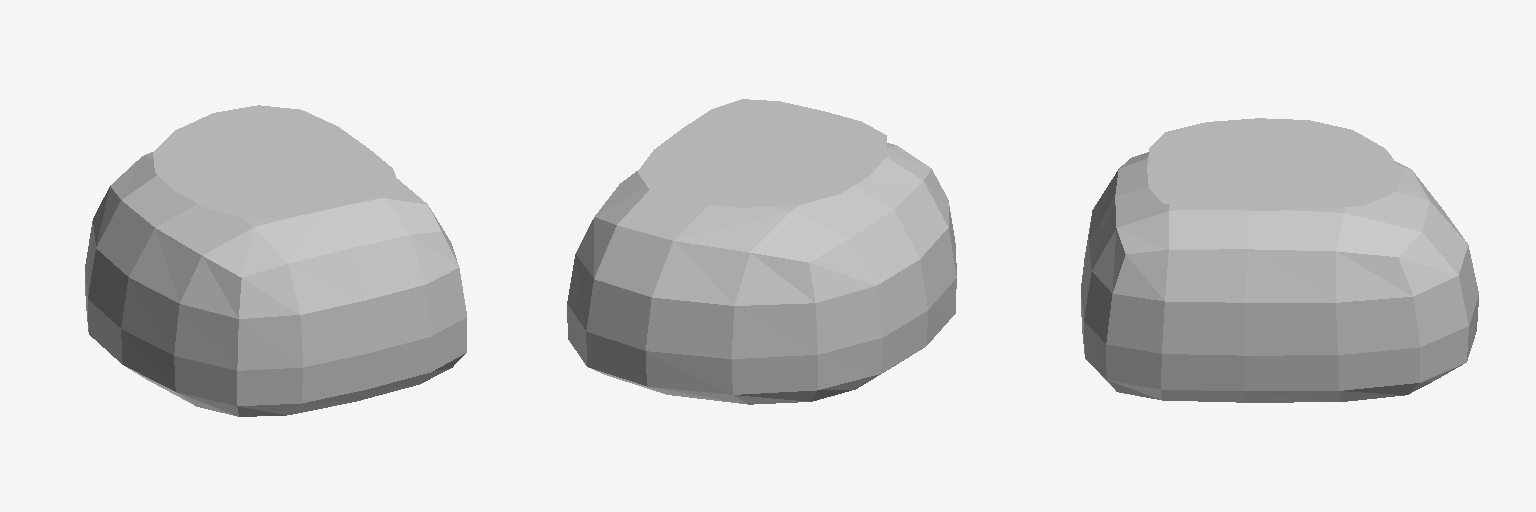
The model's file is snow_rock_2.obj.
3 renders of one model, left to right at view 1: azimuth 30°, elevation 25°; view 2: azimuth 150°, elevation 25°; view 3: azimuth 270°, elevation 25°, orthographic.
Parts seen in each view (by area): view 1: Cube, Cube.003; view 2: Cube, Cube.003; view 3: Cube, Cube.003.
Part boxes in pixels (x1,y1,x2,y2): Cube: (85, 152, 466, 416); Cube.003: (153, 105, 398, 218); Cube: (567, 143, 956, 404); Cube.003: (638, 99, 886, 207); Cube: (1081, 152, 1478, 402); Cube.003: (1147, 118, 1402, 210).
Size of the model in its own units: 2.19 by 1.33 by 2.56.